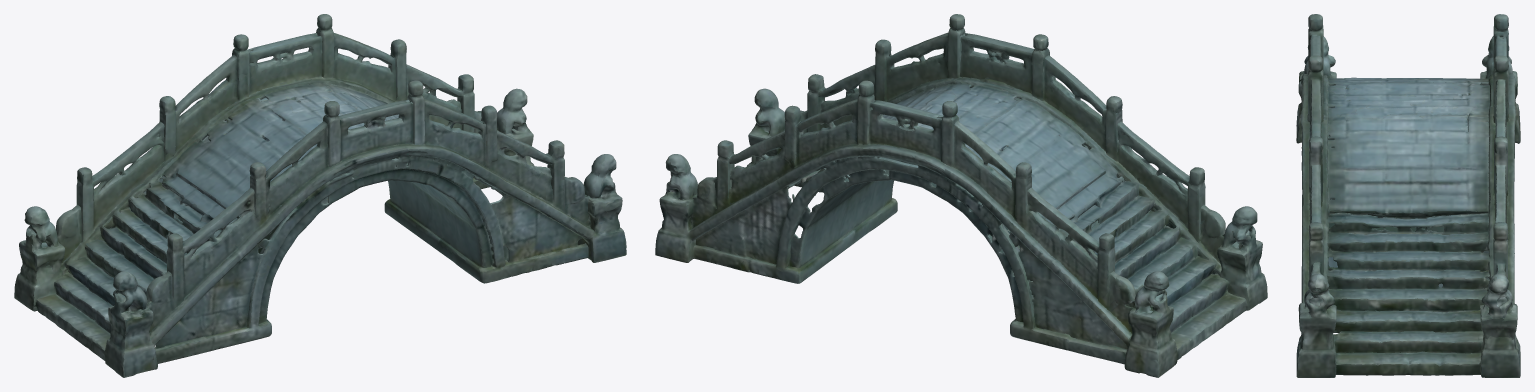
Rendered from stone-bridge-v2.glb.
The picture shows the model from 3 angles, left to right: view 1: azimuth 30°, elevation 25°; view 2: azimuth 150°, elevation 25°; view 3: azimuth 270°, elevation 25°; orthographic projection. The views are drawn at different scales.
Visible parts, largest first — view 1: geometry_0; view 2: geometry_0; view 3: geometry_0.
Boxes of the visible parts, x1,y1,x2,y2 form: geometry_0: [14, 14, 626, 377]; geometry_0: [655, 14, 1267, 377]; geometry_0: [1296, 14, 1520, 377].
Bounding box in the file's own units: 3 × 1.23 × 1.13.
1 material, 1 textured.
